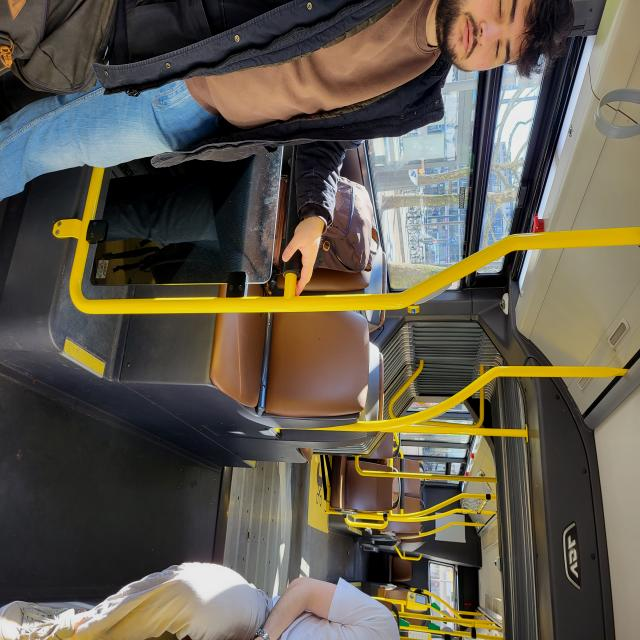asiento-libre: (373, 361, 473, 574), (501, 328, 544, 414), (531, 292, 559, 336), (503, 292, 530, 331), (575, 304, 597, 338), (484, 329, 504, 365)
